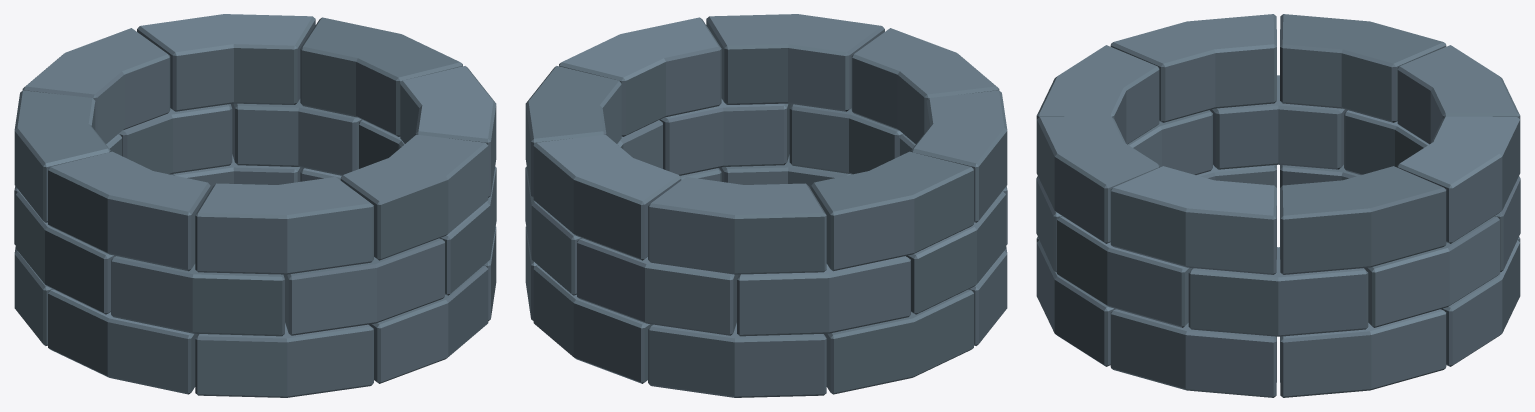
The model's file is D21_Well_Ring.fbx.
The picture shows the model from 3 angles, left to right: view 1: azimuth 30°, elevation 25°; view 2: azimuth 150°, elevation 25°; view 3: azimuth 270°, elevation 25°; orthographic projection.
Visible parts, largest first — view 1: D21_Well_Ring; view 2: D21_Well_Ring; view 3: D21_Well_Ring.
Part boxes in pixels (bbox=[...]): D21_Well_Ring: bbox=[14, 14, 496, 397]; D21_Well_Ring: bbox=[525, 14, 1007, 397]; D21_Well_Ring: bbox=[1036, 14, 1520, 397].
Size of the model in its own units: 2 by 0.83 by 2.
Materials: 1 (1 with a texture image).
